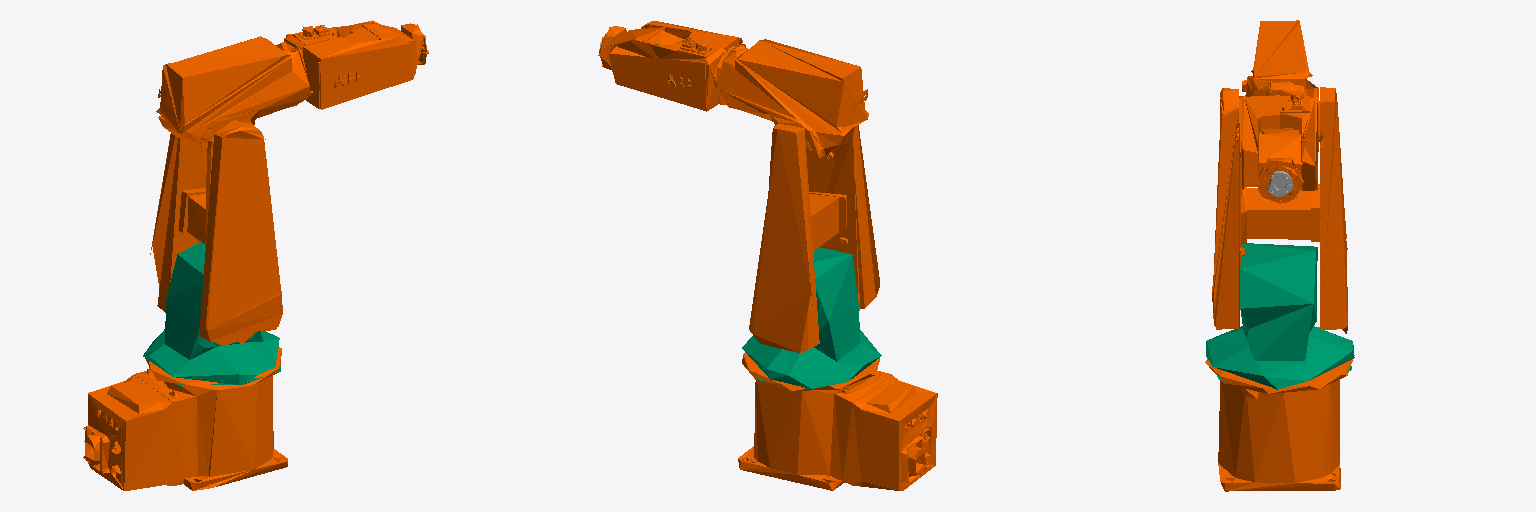
robot.urdf — irb120:
<?xml version="1.0" ?>
<!-- =================================================================================== -->
<!-- |    This document was autogenerated by xacro from franka_ros/franka_description/robots/panda/panda.urdf.xacro | -->
<!-- |    EDITING THIS FILE BY HAND IS NOT RECOMMENDED                                 | -->
<!-- =================================================================================== -->
<robot name="irb120">
    <link name="inertial"></link>

    <link name="base">
        <!-- <inertial>
            <origin xyz="0.0 0.0 0.0" rpy="0.0 0.0 0.0"/>
            <mass value="0.0"/>
            <inertia ixx="0.0" ixy="0.0" ixz="0.0" iyy="0.0" iyz="0.0" izz="0.0"/>
        </inertial> -->
        <visual>
            <geometry>
                <mesh filename="meshes/base.stl" scale="0.001 0.001 0.001"/>
            </geometry>
            <material name="abb_orange">
                <color rgba="1 0.43 0 1"/>
            </material>
        </visual>
    </link>

    <link name="link1">
        <visual>
            <geometry>
                <mesh filename="meshes/link1.stl" scale="0.001 0.001 0.001"/>
            </geometry>
        </visual>
        <inertial>
            <origin xyz="0.0 0.0 0.062" rpy="0.0 0.0 0.0"/>
            <mass value="3.0"/>
            <inertia ixx="0.014" ixy="0.0" ixz="0.0" iyy="0.010" iyz="0.0" izz="0.014"/>
        </inertial>
        
    </link>

    <link name="link2">
        <visual>
            <geometry>
                <mesh filename="meshes/link2.stl" scale="0.001 0.001 0.001"/>
            </geometry>
            <material name="abb_orange">
                <color rgba="1 0.43 0 1"/>
            </material>
        </visual>
        <inertial>
            <origin xyz="0.0 0.0 0.12" rpy="0.0 0.0 0.0"/>
            <mass value="3.9"/>
            <inertia ixx="0.060" ixy="0.0" ixz="0.0" iyy="0.026" iyz="0.0" izz="0.042"/>
        </inertial>
        
    </link>

    <link name="link3">
        <visual>
            <geometry>
                <mesh filename="meshes/link3.stl" scale="0.001 0.001 0.001"/>
            </geometry>
            <material name="abb_orange">
                <color rgba="1 0.43 0 1"/>
            </material>
        </visual>
        <inertial>
            <origin xyz="0.5 0.0 0.03" rpy="0.0 0.0 0.0"/>
            <mass value="2.9"/>
            <inertia ixx="0.008" ixy="0.0" ixz="0.0" iyy="0.013" iyz="0.0" izz="0.017"/>
        </inertial>
        
    </link>

    <link name="link4">
        <visual>
            <geometry>
                <mesh filename="meshes/link4.stl" scale="0.001 0.001 0.001"/>
            </geometry>
            <material name="abb_orange">
                <color rgba="1 0.43 0 1"/>
            </material>
        </visual>
        <inertial>
            <origin xyz="0.0 0.0 0.07" rpy="0.0 0.0 0.0"/>
            <mass value="1.3"/>
            <inertia ixx="0.003" ixy="0.0" ixz="0.0" iyy="0.005" iyz="0.0" izz="0.004"/>
        </inertial>
        
    </link>

    <link name="link5">
        <visual>
            <geometry>
                <mesh filename="meshes/link5.stl" scale="0.001 0.001 0.001"/>
            </geometry>
            <material name="abb_orange">
                <color rgba="1 0.43 0 1"/>
            </material>
        </visual>
        <inertial>
            <origin xyz="0.0 0.0 0.03" rpy="0.0 0.0 0.0"/>
            <mass value="0.55"/>
            <inertia ixx="0.0004" ixy="0.0" ixz="0.0" iyy="0.0008" iyz="0.0" izz="0.0009"/>
        </inertial>
        
    </link>

    <link name="link6">
        <visual>
            <geometry>
                <mesh filename="meshes/link6.stl" scale="0.001 0.001 0.001"/>
            </geometry>
        </visual>
        <inertial>
            <origin xyz="0.0 0.0 0.0" rpy="0.0 0.0 0.0"/>
            <mass value="0.014"/>
            <inertia ixx="0.002" ixy="0.0" ixz="0.0" iyy="0.002" iyz="0.0" izz="0.003"/>
        </inertial>
        
    </link>

    <link name="end-effector"></link>


    <joint name="jointI" type="fixed">
        <parent link="inertial"/>
        <child link="base"/>
    </joint>

    <joint name="joint1" type="continuous">
        <parent link="base"/>
        <child link="link1"/>
        <origin xyz="0.0 0.0 0.145"/>
        <axis xyz="0.0 0.0 1.0"/>
        
    </joint>

    <joint name="joint2" type="continuous">
        <parent link="link1"/>
        <child link="link2"/>
        <origin xyz="0.0 0.0 0.145"/>
        <axis xyz="0.0 1.0 0.0"/>
        
    </joint>

    <joint name="joint3" type="continuous">
        <parent link="link2"/>
        <child link="link3"/>
        <origin xyz="0.0 0.0 0.27"/>
        <axis xyz="0.0 1.0 0.0"/>
        
    </joint>

    <joint name="joint4" type="continuous">
        <parent link="link3"/>
        <child link="link4"/>
        <origin xyz="0.134 0.0 0.07"/>
        <axis xyz="1.0 0.0 0.0"/>
        
    </joint>

    <joint name="joint5" type="continuous">
        <parent link="link4"/>
        <child link="link5"/>
        <origin xyz="0.168 0.0 0.0"/>
        <axis xyz="0.0 1.0 0.0"/>
        
    </joint>

    <joint name="joint6" type="continuous">
        <parent link="link5"/>
        <child link="link6"/>
        <origin xyz="0.072 0.0 0.0"/>
        <axis xyz="1.0 0.0 0.0"/>
        
    </joint>

    <joint name="jointE" type="fixed">
        <parent link="link6"/>
        <child link="end-effector"/>
    </joint>
</robot>

--- Render facts (derived) ---
The picture shows the robot from 3 angles, left to right: view 1: azimuth 30°, elevation 25°; view 2: azimuth 150°, elevation 25°; view 3: azimuth 270°, elevation 25°; orthographic projection.
Robot: irb120 — 9 links, 8 joints (6 continuous, 2 fixed); root link inertial; default pose: every joint at zero.
Links seen in each view (by area): view 1: link2, base, link3, link1, link4, link5; view 2: base, link2, link3, link1, link4, link5; view 3: link2, base, link1, link4, link3, link5.
Boxes of the visible links, x1,y1,x2,y2 form: link2: (150, 120, 282, 345); base: (83, 347, 287, 490); link3: (156, 36, 313, 163); link1: (143, 242, 280, 384); link4: (284, 20, 419, 109); link5: (343, 22, 428, 64); base: (738, 352, 937, 490); link2: (749, 123, 879, 352); link3: (714, 39, 868, 164); link1: (742, 247, 881, 388); link4: (609, 21, 742, 111); link5: (598, 26, 683, 71); link2: (1212, 87, 1347, 333); base: (1205, 327, 1354, 491); link1: (1206, 243, 1354, 389); link4: (1236, 91, 1322, 190); link3: (1242, 20, 1319, 151); link5: (1256, 128, 1303, 203).
Bounding box of the posed robot: 0.5853 × 0.2194 × 0.6901 m (x, y, z).
Meshes: 7 distinct files referenced, 7 mesh visuals loaded (7 binary STL).
